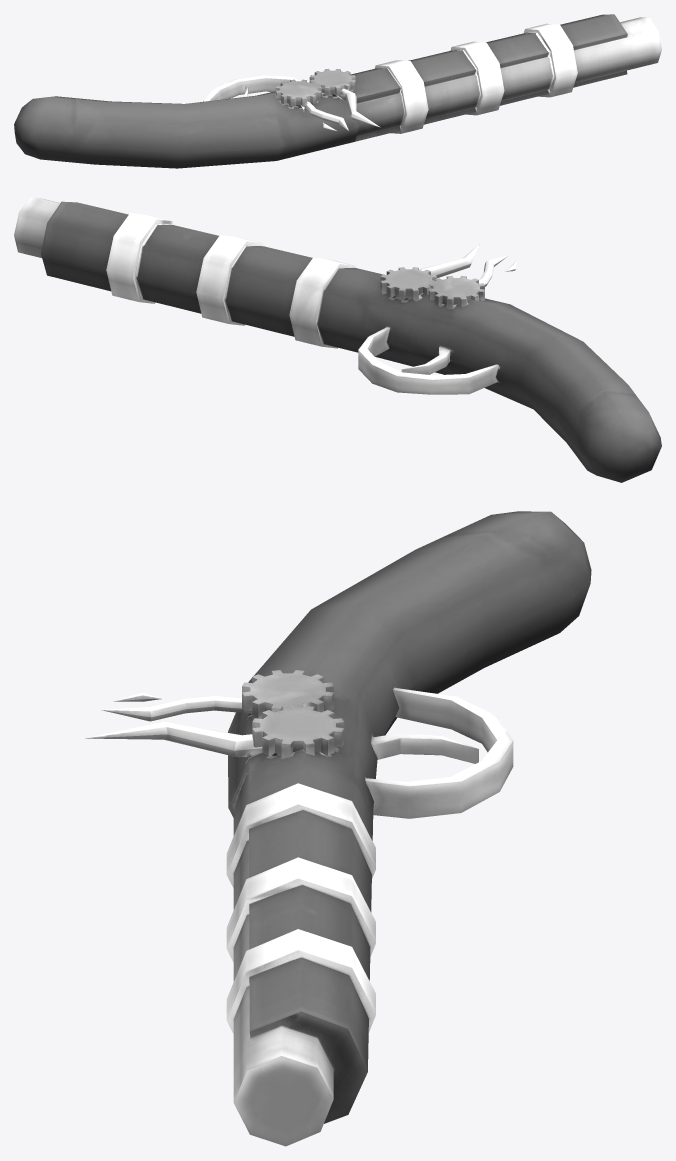
File: obj_gun01_alt.gltf
3 renders of one model, top to bottom at view 1: azimuth 30°, elevation 25°; view 2: azimuth 150°, elevation 25°; view 3: azimuth 270°, elevation 25°, orthographic. The views are drawn at different scales.
Parts seen in each view (by area): view 1: obj_gun01_alt; view 2: obj_gun01_alt; view 3: obj_gun01_alt.
Boxes of the visible parts, x1,y1,x2,y2 form: obj_gun01_alt: (14,14,661,168); obj_gun01_alt: (14,197,661,482); obj_gun01_alt: (85,511,591,1146).
Size of what is drawn, in the model's own units: 0.5105 by 0.0592 by 0.1961.
Materials: 1 (1 with a texture image).
